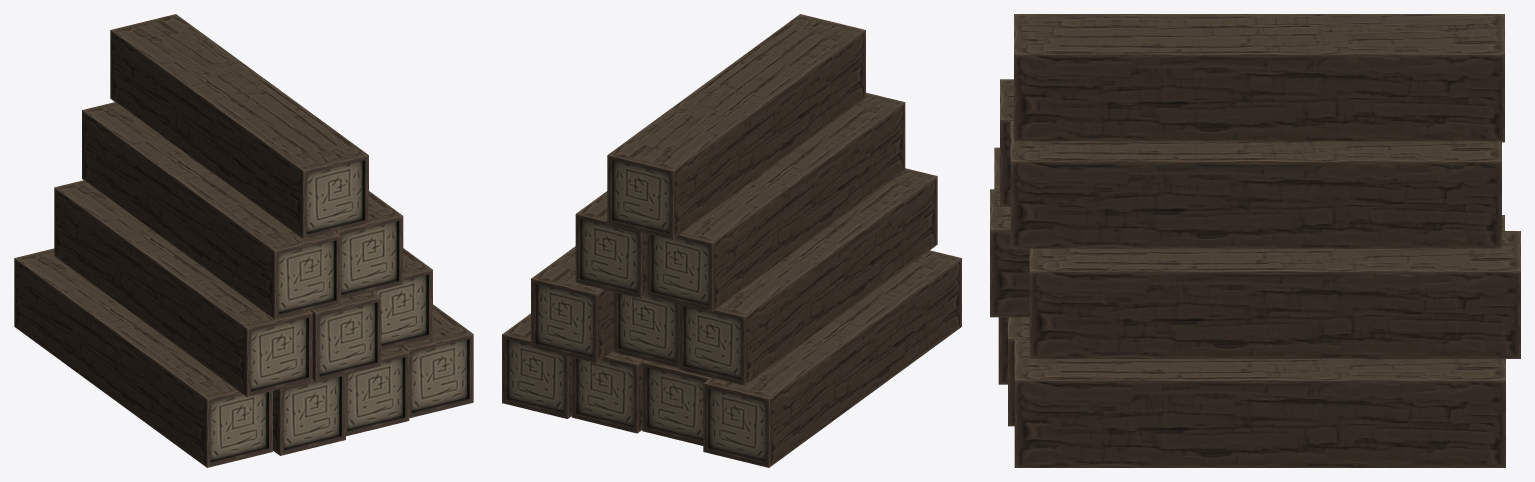
Rendered from SM_Lumber_01_A.glb.
3 views of the same model, side by side, from view 1: azimuth 30°, elevation 25°; view 2: azimuth 150°, elevation 25°; view 3: azimuth 270°, elevation 25° (orthographic). The views are drawn at different scales.
Parts seen in each view (by area): view 1: SM_Lumber_01_A; view 2: SM_Lumber_01_A; view 3: SM_Lumber_01_A.
Boxes of the visible parts, left/top/right/bottom form: SM_Lumber_01_A: left=14, top=14, right=473, bottom=467; SM_Lumber_01_A: left=502, top=14, right=961, bottom=467; SM_Lumber_01_A: left=990, top=14, right=1520, bottom=467.
Size of the model in its own units: 0.5582 by 0.5467 by 0.7558.
1 material, 1 textured.
